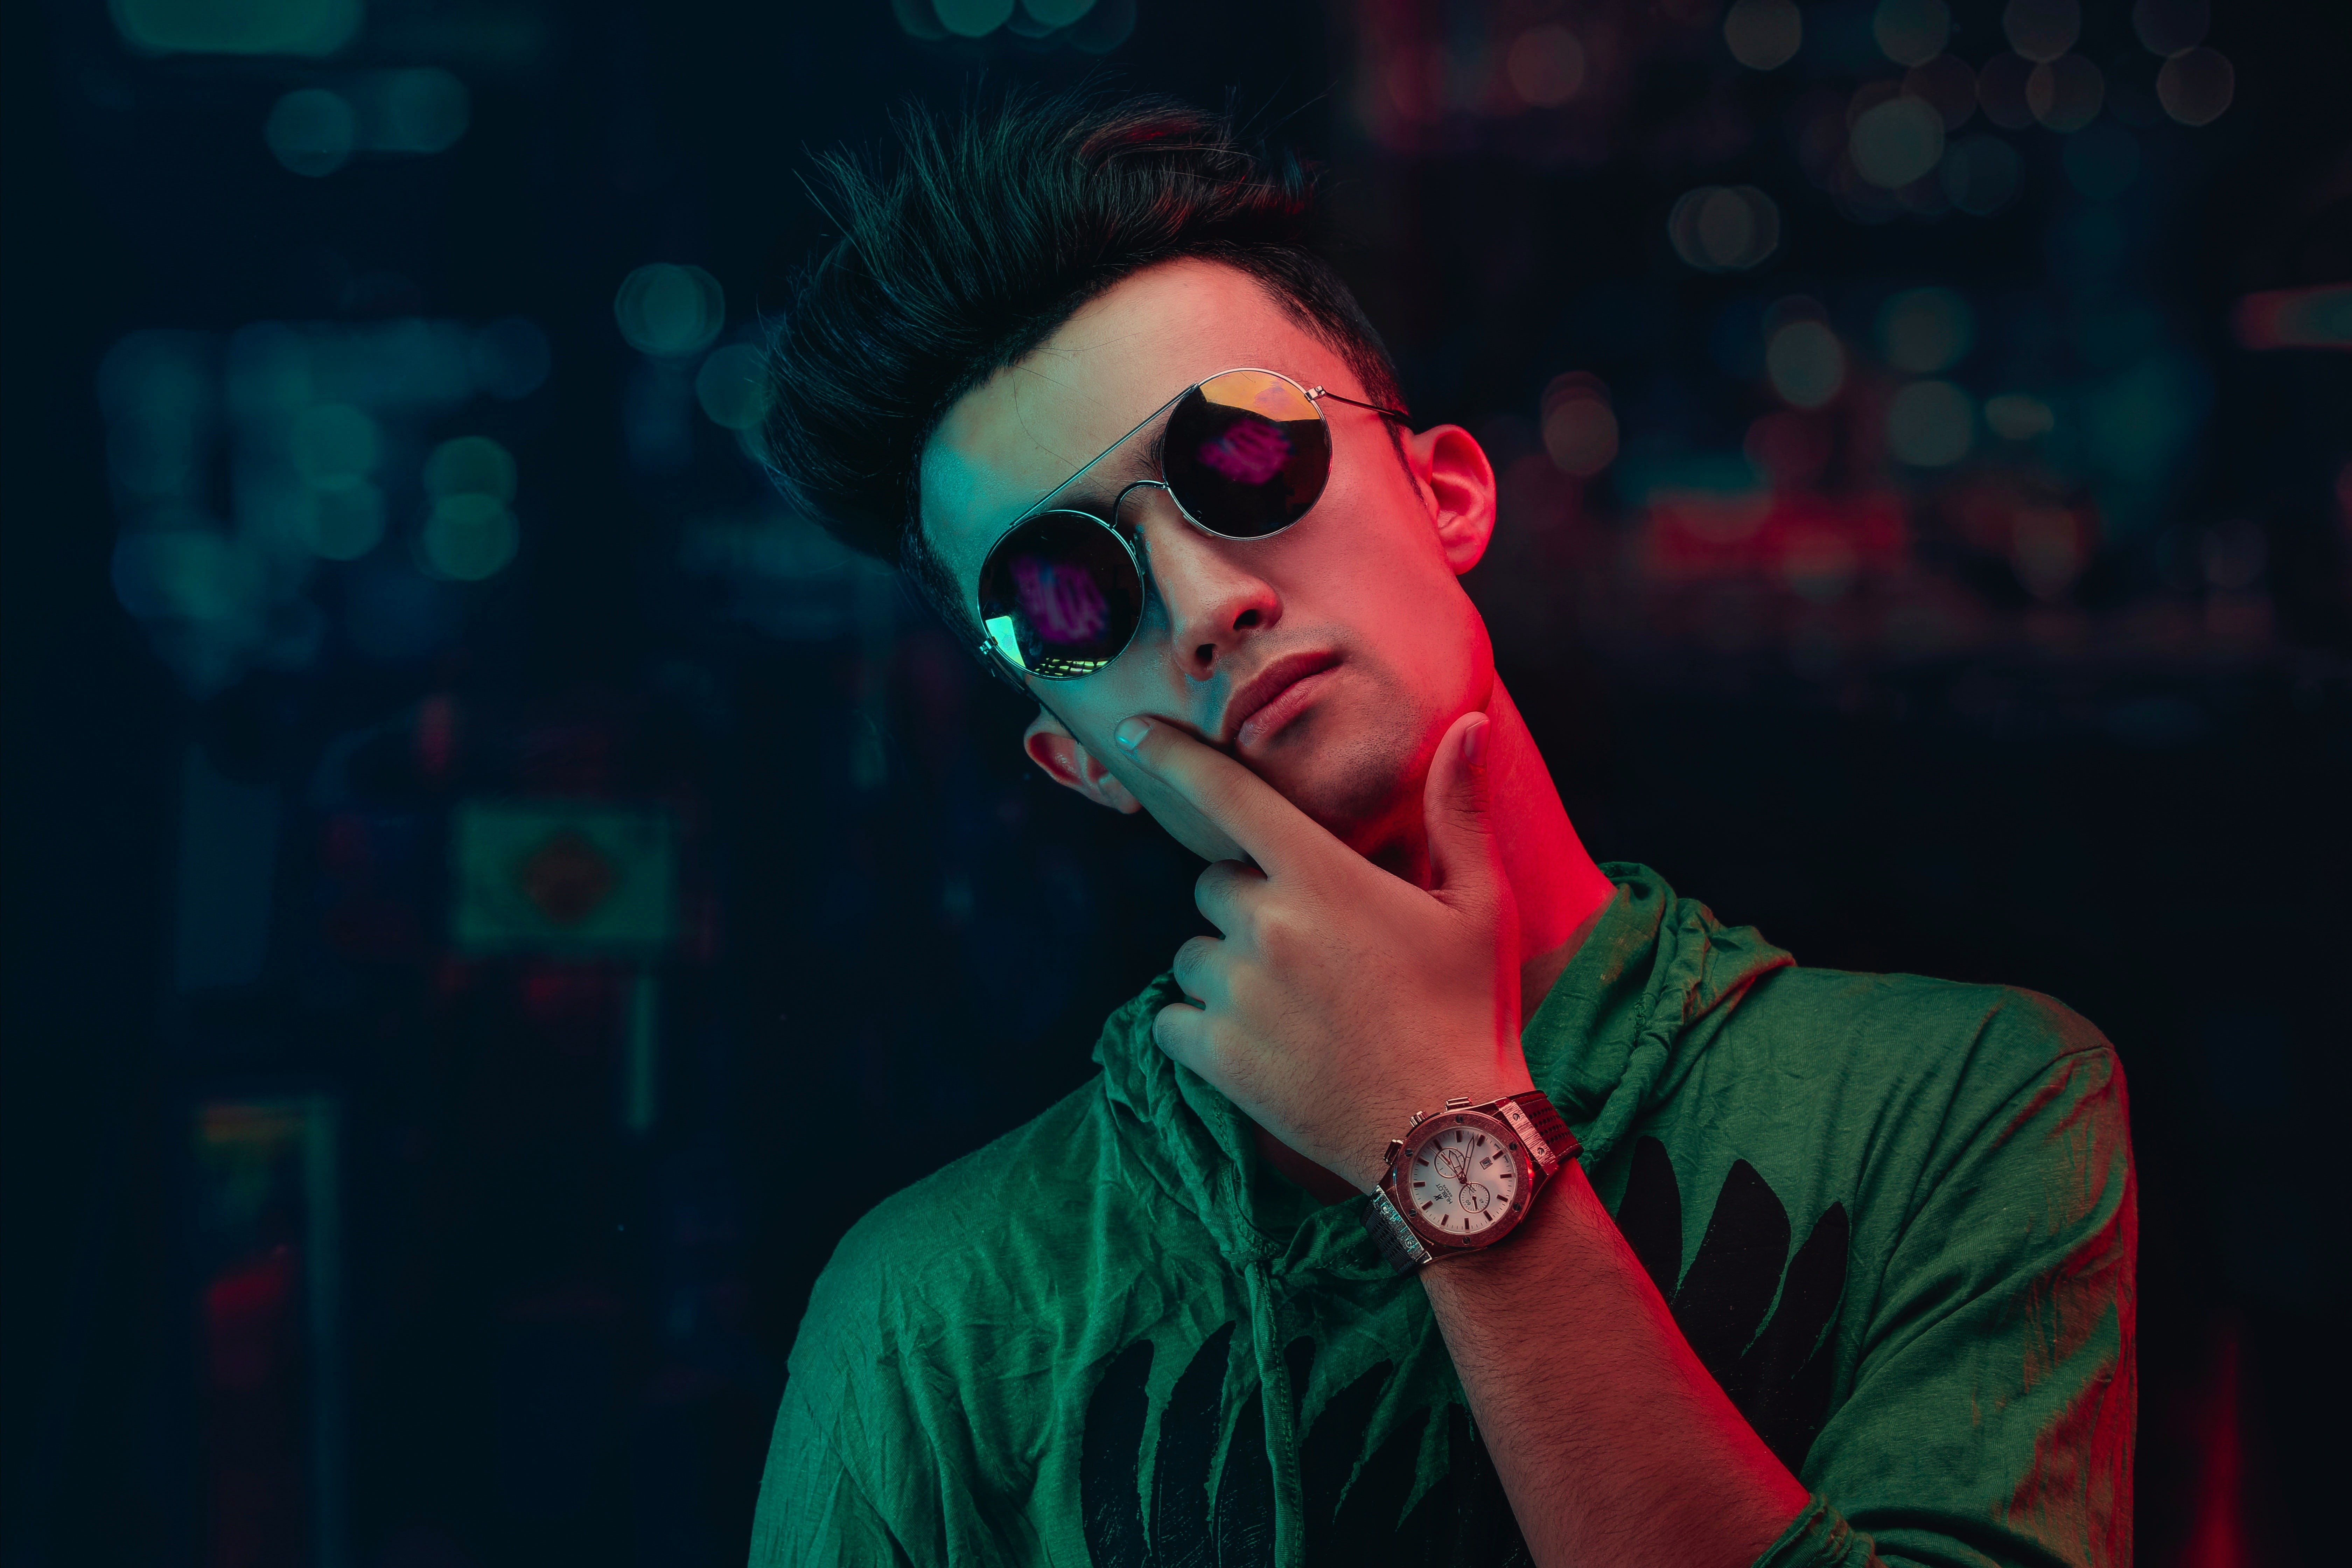face_no_mask: (917, 272, 1522, 880)
